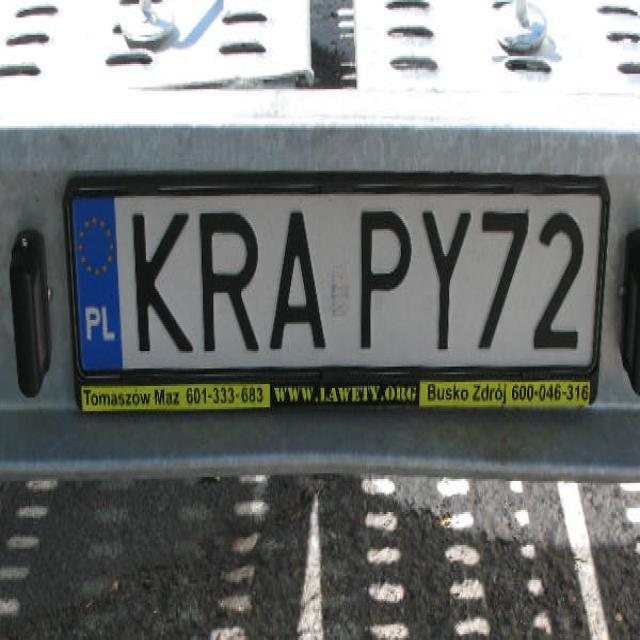pl_license_plate: (71, 192, 598, 367)
